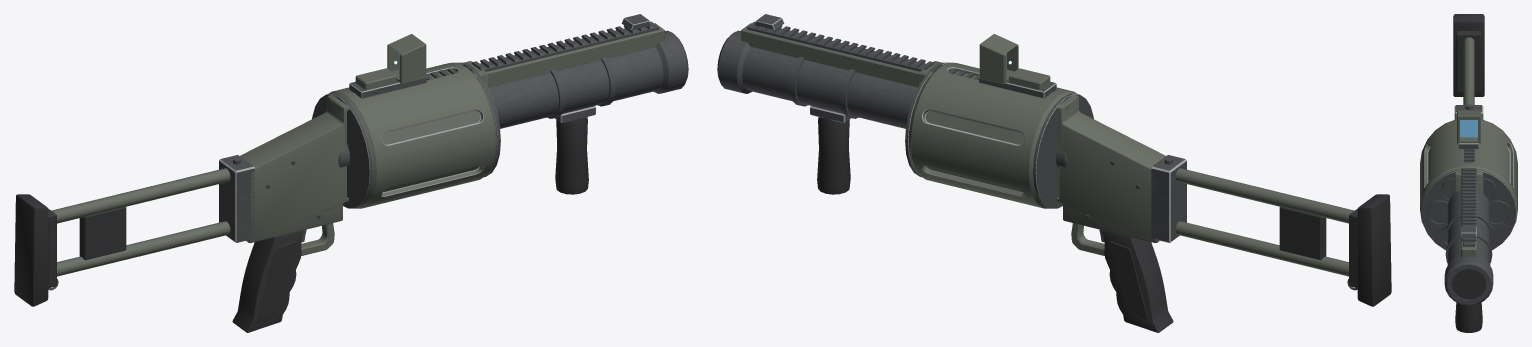
The picture shows the model from 3 angles, left to right: view 1: azimuth 30°, elevation 25°; view 2: azimuth 150°, elevation 25°; view 3: azimuth 270°, elevation 25°; orthographic projection. The views are drawn at different scales.
Visible parts, largest first — view 1: W_gl; view 2: W_gl; view 3: W_gl.
Boxes of the visible parts, x1,y1,x2,y2 form: W_gl: (14, 14, 688, 332); W_gl: (717, 14, 1391, 332); W_gl: (1420, 14, 1517, 332).
Size of the model in its own units: 0.7729 by 0.2781 by 0.124.
Materials: 7 (3 with a texture image).
